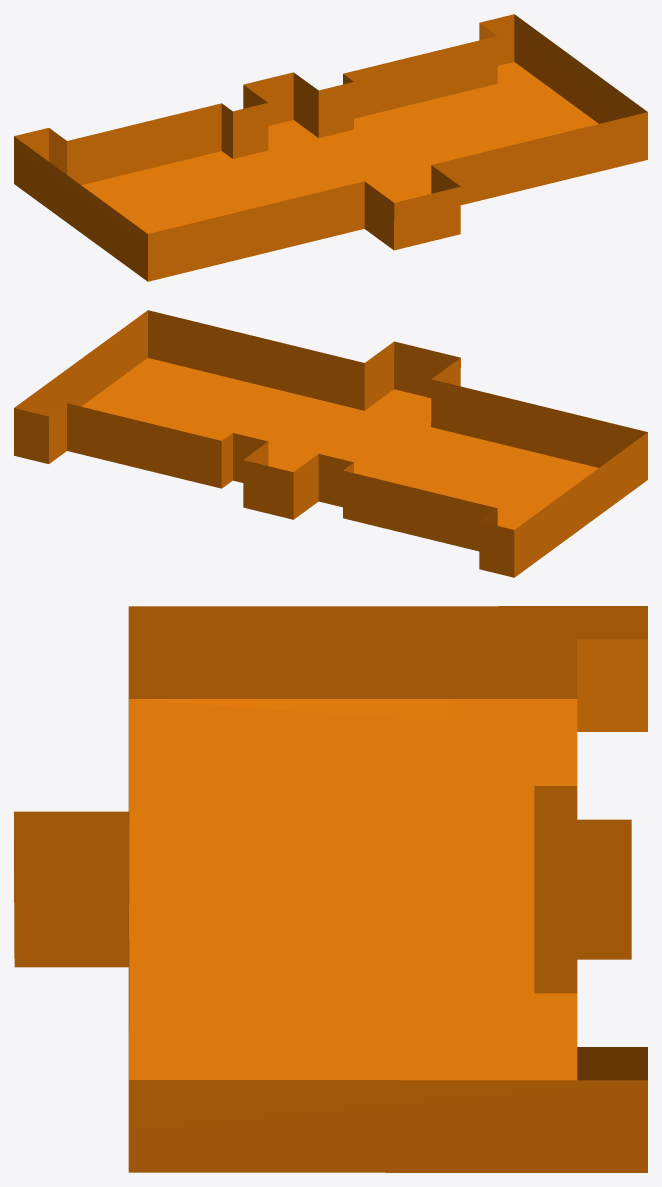
File: pasillo_col.FBX
The picture shows the model from 3 angles, top to bottom: view 1: azimuth 30°, elevation 25°; view 2: azimuth 150°, elevation 25°; view 3: azimuth 270°, elevation 25°; orthographic projection. The views are drawn at different scales.
Parts seen in each view (by area): view 1: Banquillo_col_mesh; view 2: Banquillo_col_mesh; view 3: Banquillo_col_mesh.
Boxes of the visible parts, bbox=[...] form: Banquillo_col_mesh: bbox=[14, 14, 647, 281]; Banquillo_col_mesh: bbox=[14, 310, 647, 577]; Banquillo_col_mesh: bbox=[14, 606, 647, 1172].
Bounding box in the file's own units: 975 × 89.01 × 551.
